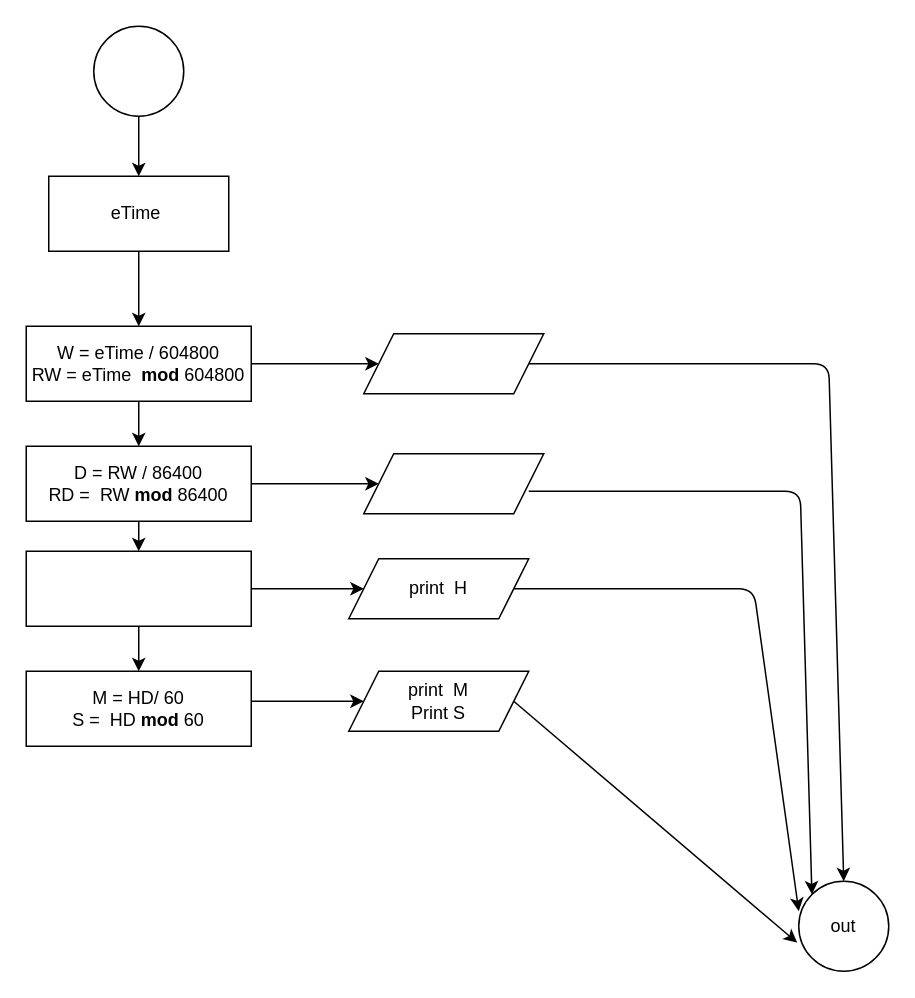
The diagram is 915 pixels wide and 998 high, and some of its shapes have lost their labels. Each missing label, with the box of its shape:
H = RD/ 3600 HD = RD mod 3600: (25, 550, 251, 626)
in: (92, 25, 184, 116)
print D: (362, 452, 544, 514)
print W: (362, 332, 544, 394)
